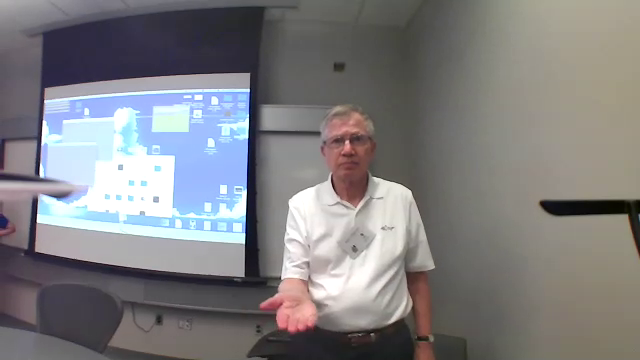land: (246, 283, 328, 337)
